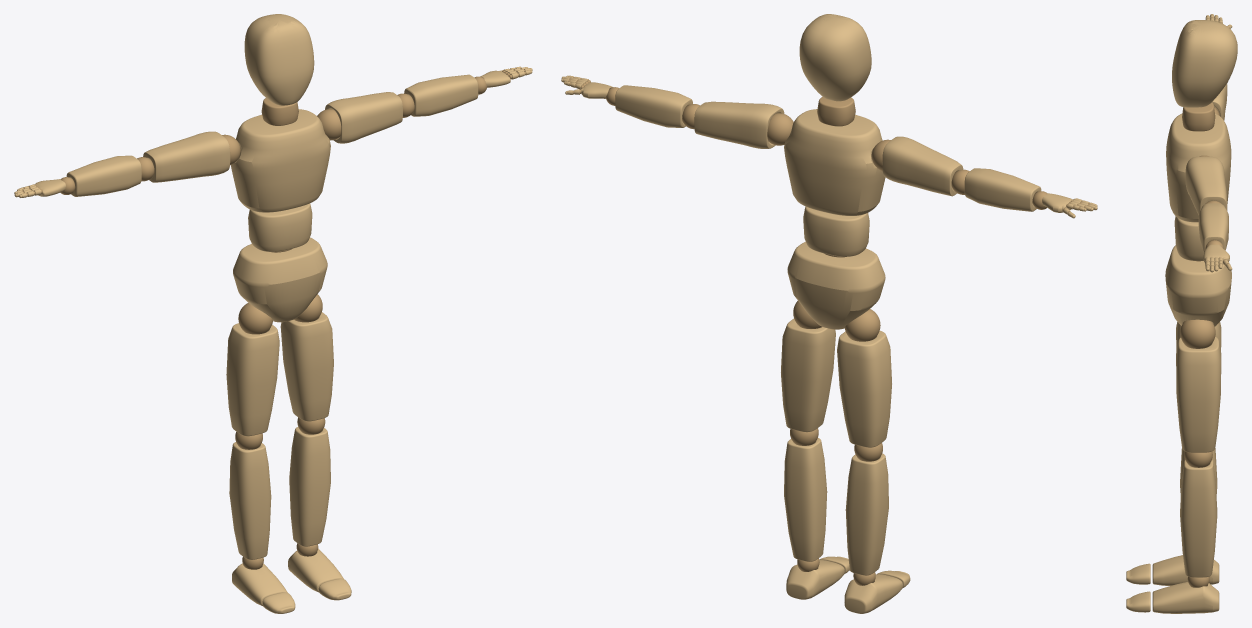
The model's file is smpl_robot_professional.glb.
3 renders of one model, left to right at view 1: azimuth 30°, elevation 25°; view 2: azimuth 150°, elevation 25°; view 3: azimuth 270°, elevation 25°, orthographic. The views are drawn at different scales.
Parts seen in each view (by area): view 1: J09__chest_shell__armor, J00__pelvis_shell__armor, J15__featureless_mannequin_head__armor, J02__thigh_R__armor, J01__thigh_L__armor, J04__shin_L__armor, J05__shin_R__armor, J17__upper_arm_R__armor, J16__upper_arm_L__armor, J03__abdomen_shell__armor, J19__forearm_R__armor, J18__forearm_L__armor (+4 smaller); view 2: J09__chest_shell__armor, J00__pelvis_shell__armor, J02__thigh_R__armor, J01__thigh_L__armor, J15__featureless_mannequin_head__armor, J04__shin_L__armor, J05__shin_R__armor, J17__upper_arm_R__armor, J16__upper_arm_L__armor, J03__abdomen_shell__armor, J19__forearm_R__armor, J18__forearm_L__armor (+4 smaller); view 3: J15__featureless_mannequin_head__armor, J01__thigh_L__armor, J04__shin_L__armor, J09__chest_shell__armor, J00__pelvis_shell__armor, J16__upper_arm_L__armor, J07__rear_foot_L__armor, J18__forearm_L__armor, J08__rear_foot_R__armor, J03__abdomen_shell__armor, J01__hip_ball_L__joint, J12__neck_pedestal__joint (+8 smaller).
Part boxes in pixels (left/top/right/bottom): J09__chest_shell__armor: left=230, top=109, right=330, bottom=212; J00__pelvis_shell__armor: left=233, top=237, right=327, bottom=322; J15__featureless_mannequin_head__armor: left=244, top=14, right=314, bottom=105; J02__thigh_R__armor: left=226, top=323, right=279, bottom=436; J01__thigh_L__armor: left=280, top=312, right=333, bottom=421; J04__shin_L__armor: left=289, top=427, right=330, bottom=546; J05__shin_R__armor: left=229, top=442, right=271, bottom=559; J17__upper_arm_R__armor: left=143, top=131, right=230, bottom=182; J16__upper_arm_L__armor: left=325, top=92, right=402, bottom=143; J03__abdomen_shell__armor: left=248, top=203, right=312, bottom=251; J19__forearm_R__armor: left=66, top=155, right=141, bottom=196; J18__forearm_L__armor: left=404, top=74, right=478, bottom=116; J09__chest_shell__armor: left=784, top=109, right=885, bottom=215; J00__pelvis_shell__armor: left=787, top=241, right=885, bottom=329; J02__thigh_R__armor: left=837, top=330, right=891, bottom=447; J01__thigh_L__armor: left=781, top=318, right=835, bottom=432; J15__featureless_mannequin_head__armor: left=799, top=14, right=871, bottom=101; J04__shin_L__armor: left=784, top=438, right=827, bottom=561; J05__shin_R__armor: left=845, top=453, right=888, bottom=575; J17__upper_arm_R__armor: left=882, top=136, right=963, bottom=196; J16__upper_arm_L__armor: left=694, top=101, right=784, bottom=148; J03__abdomen_shell__armor: left=803, top=206, right=869, bottom=256; J19__forearm_R__armor: left=964, top=168, right=1041, bottom=211; J18__forearm_L__armor: left=615, top=85, right=692, bottom=127; J15__featureless_mannequin_head__armor: left=1172, top=20, right=1237, bottom=107; J01__thigh_L__armor: left=1176, top=336, right=1221, bottom=452; J04__shin_L__armor: left=1180, top=460, right=1217, bottom=577; J09__chest_shell__armor: left=1166, top=113, right=1231, bottom=222; J00__pelvis_shell__armor: left=1165, top=245, right=1231, bottom=326; J16__upper_arm_L__armor: left=1185, top=156, right=1227, bottom=215; J07__rear_foot_L__armor: left=1152, top=582, right=1219, bottom=613; J18__forearm_L__armor: left=1198, top=203, right=1228, bottom=252; J08__rear_foot_R__armor: left=1152, top=555, right=1219, bottom=585; J03__abdomen_shell__armor: left=1174, top=216, right=1203, bottom=260; J01__hip_ball_L__joint: left=1180, top=319, right=1215, bottom=348; J12__neck_pedestal__joint: left=1182, top=102, right=1215, bottom=131.
Bounding box in the file's own units: 1.71 × 1.78 × 0.3156.
